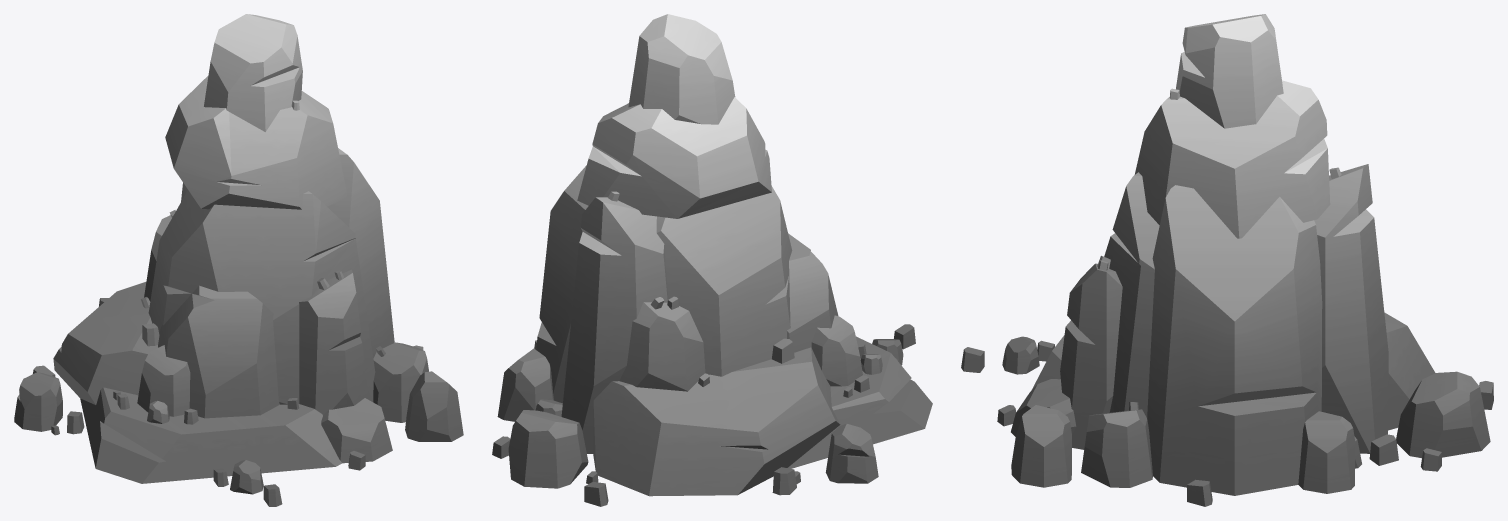
File: Rocks.fbx
The picture shows the model from 3 angles, left to right: view 1: azimuth 30°, elevation 25°; view 2: azimuth 150°, elevation 25°; view 3: azimuth 270°, elevation 25°; orthographic projection. The views are drawn at different scales.
Parts seen in each view (by area): view 1: big_rock_01; view 2: big_rock_01; view 3: big_rock_01.
Boxes of the visible parts, x1,y1,x2,y2 form: big_rock_01: (14,14,463,506); big_rock_01: (492,14,932,506); big_rock_01: (961,14,1493,506).
Bounding box in the file's own units: 555 × 534 × 627.
